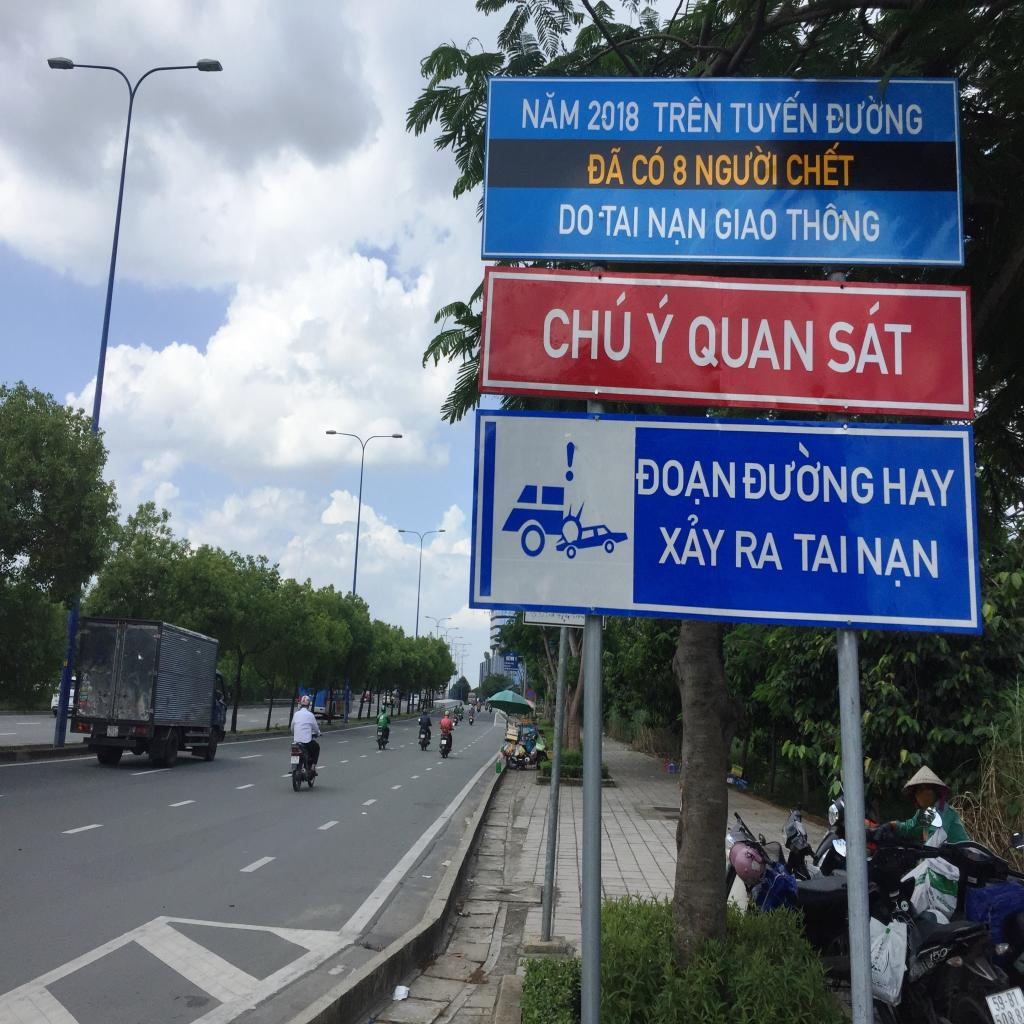text: (741, 438, 876, 506), (687, 313, 815, 374), (541, 288, 634, 366), (826, 299, 915, 378), (634, 455, 736, 508), (855, 534, 941, 592), (824, 92, 924, 137), (729, 88, 818, 136), (656, 512, 730, 568), (786, 200, 881, 243), (694, 144, 778, 188), (882, 466, 958, 508), (786, 142, 855, 188), (652, 94, 724, 134), (648, 204, 707, 249), (520, 89, 580, 132), (792, 531, 848, 575), (644, 291, 676, 367), (734, 528, 786, 573), (714, 206, 778, 242), (586, 98, 640, 134), (586, 146, 625, 188), (600, 202, 640, 239), (631, 145, 665, 187), (558, 202, 595, 238), (988, 988, 1022, 1015), (671, 154, 689, 187), (930, 945, 949, 963), (935, 892, 946, 906), (505, 655, 516, 663), (107, 730, 118, 736), (79, 695, 88, 700), (290, 760, 300, 764), (110, 726, 116, 732), (514, 656, 518, 662)
